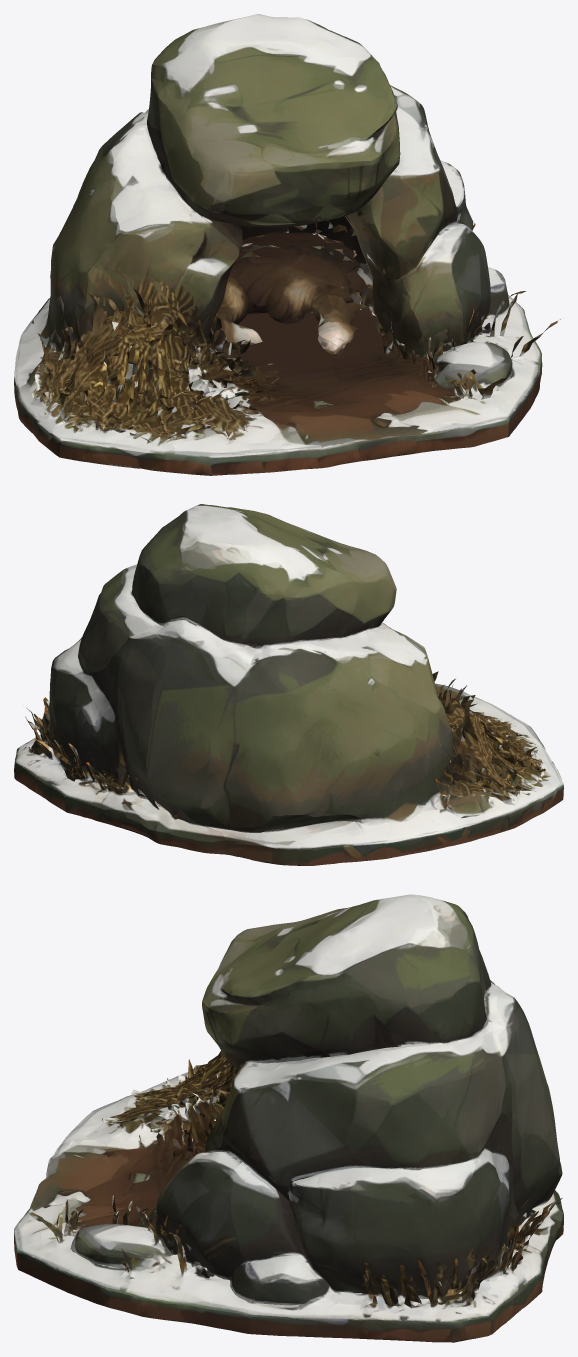
Rendered from thick_fur_den.glb.
The picture shows the model from 3 angles, top to bottom: view 1: azimuth 30°, elevation 25°; view 2: azimuth 150°, elevation 25°; view 3: azimuth 270°, elevation 25°; orthographic projection. The views are drawn at different scales.
Visible parts, largest first — view 1: thick_fur_den; view 2: thick_fur_den; view 3: thick_fur_den.
Part boxes in pixels (x1,y1,x2,y2): thick_fur_den: (14, 14, 560, 475); thick_fur_den: (14, 504, 563, 865); thick_fur_den: (14, 894, 563, 1342).
Size of the model in its own units: 3.5 by 1.98 by 3.11.
Materials: 1 (1 with a texture image).
